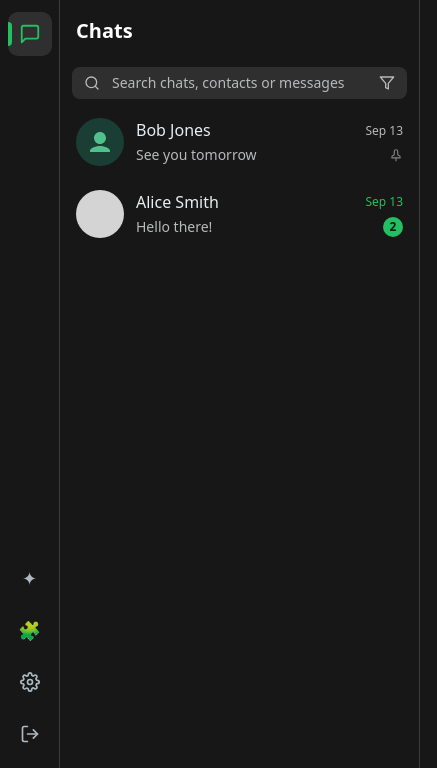
Test: ChatList › opens context menu on right click of a chat item
The image size is (437, 768).
Right-click the text "Alice Smith" at [177, 202], box [136, 191, 219, 213]
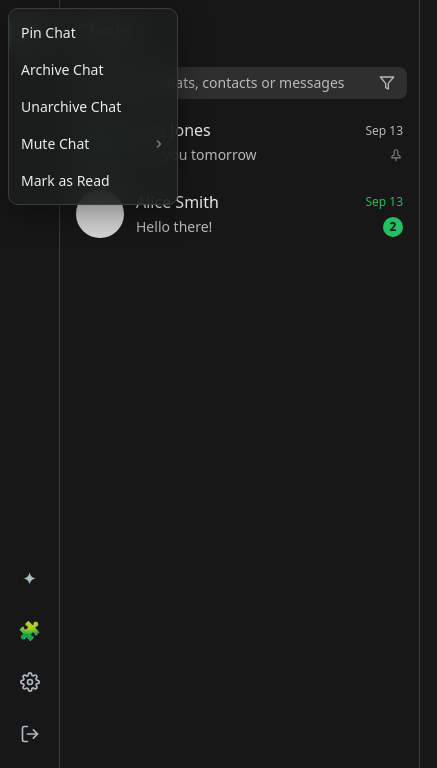
Expected: the text "Pin Chat" is shown, [21, 23, 76, 42]
Expected: the text "Mute Chat" is shown, [21, 134, 89, 153]
